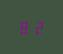eight: (19, 20, 30, 34)
two: (31, 20, 42, 34)
